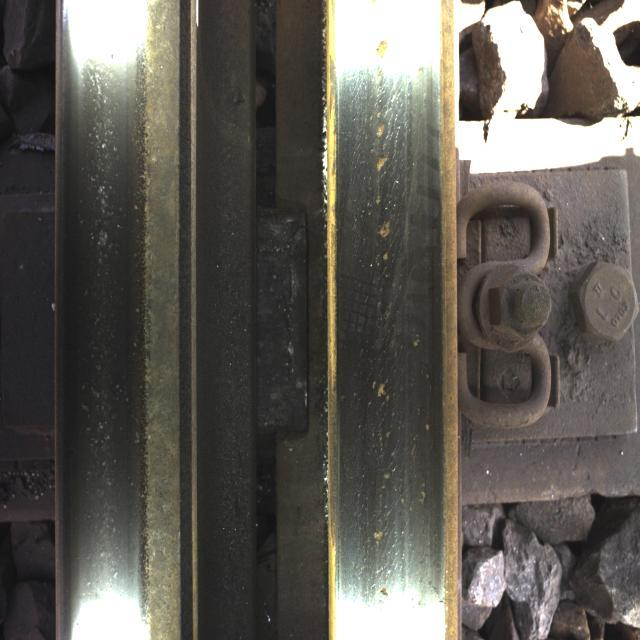scar: (345, 15, 421, 610), (74, 22, 141, 568)
